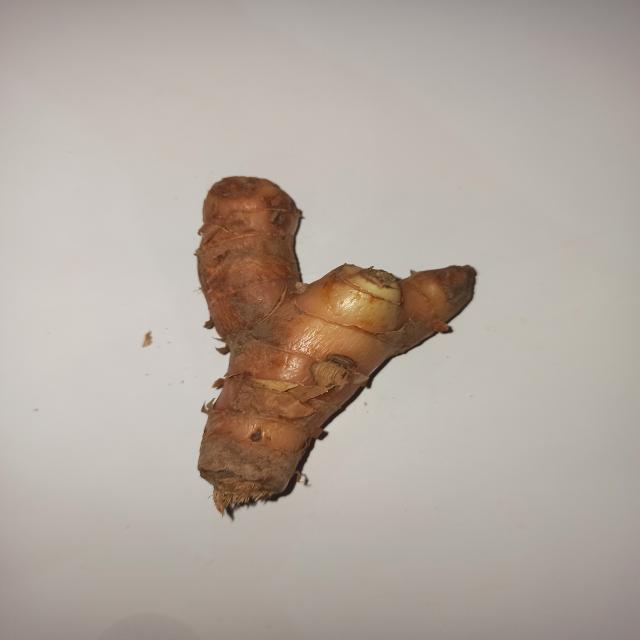ginger: (192, 177, 466, 499)
